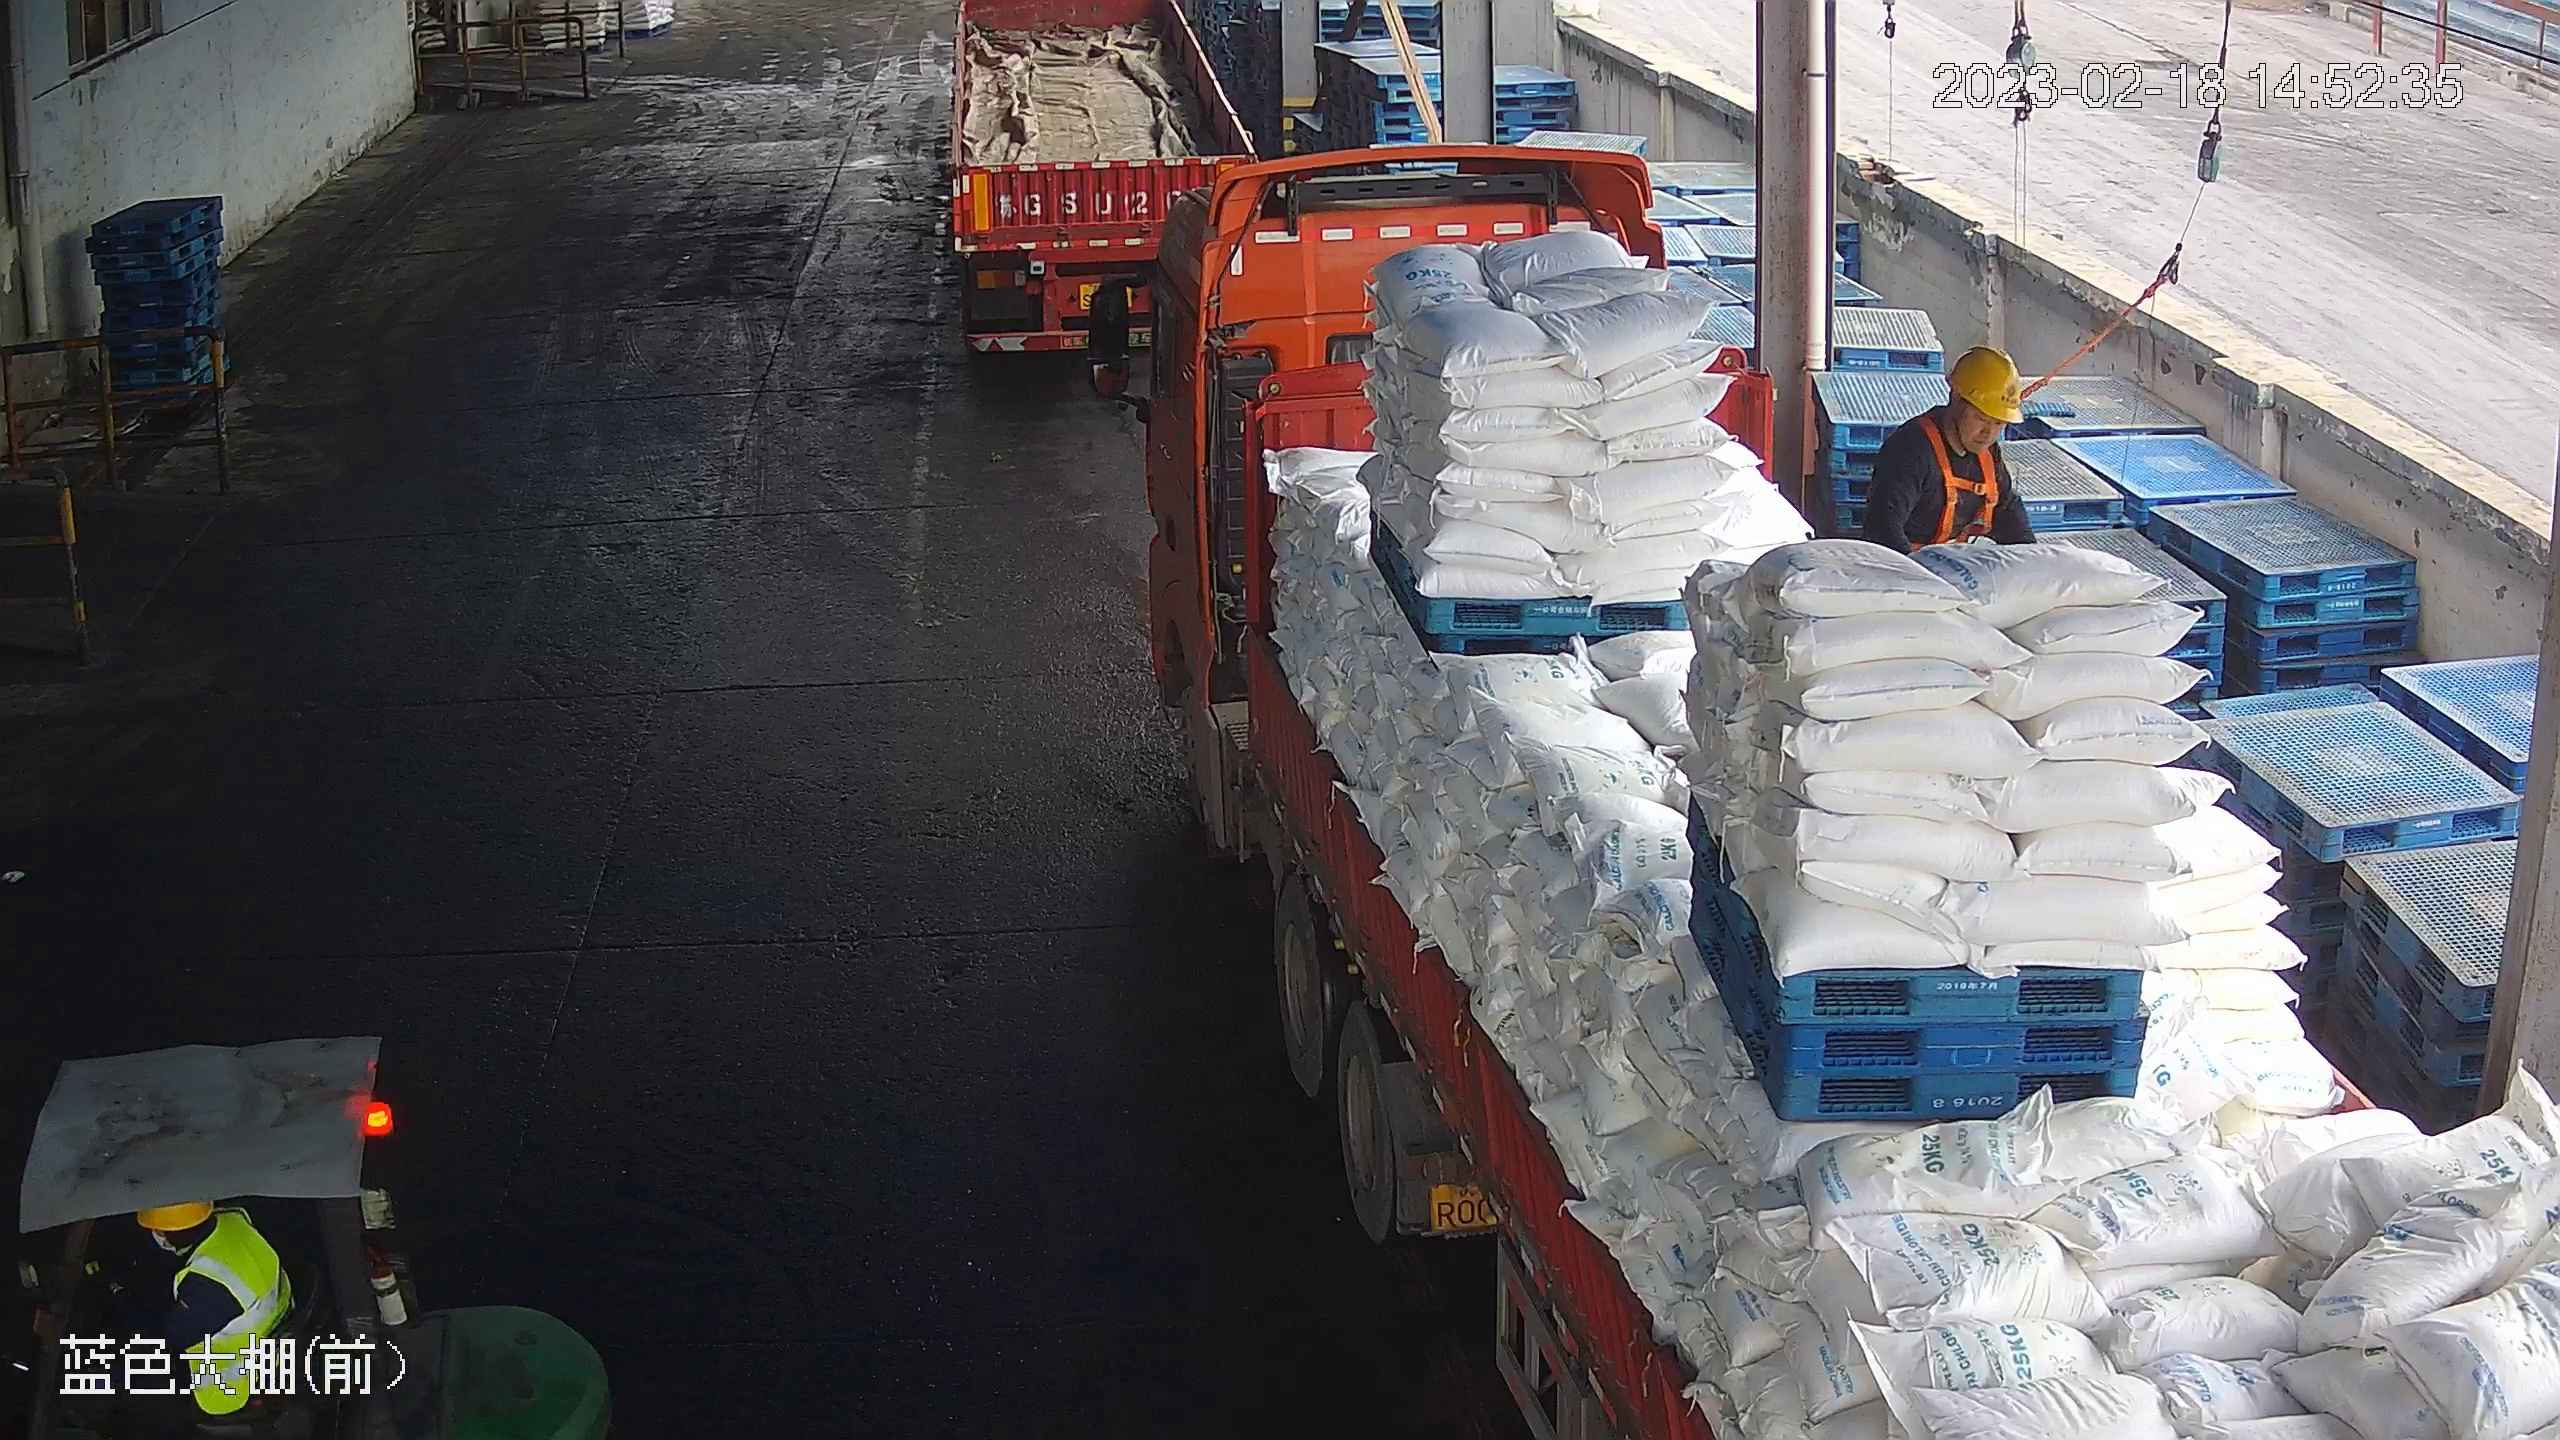belt: (1911, 429, 2002, 550)
head: (1882, 344, 2029, 491)
helmet: (1945, 344, 2029, 426)
people: (90, 1194, 288, 1430)
truck: (1056, 160, 2553, 1439), (936, 3, 1275, 367)
